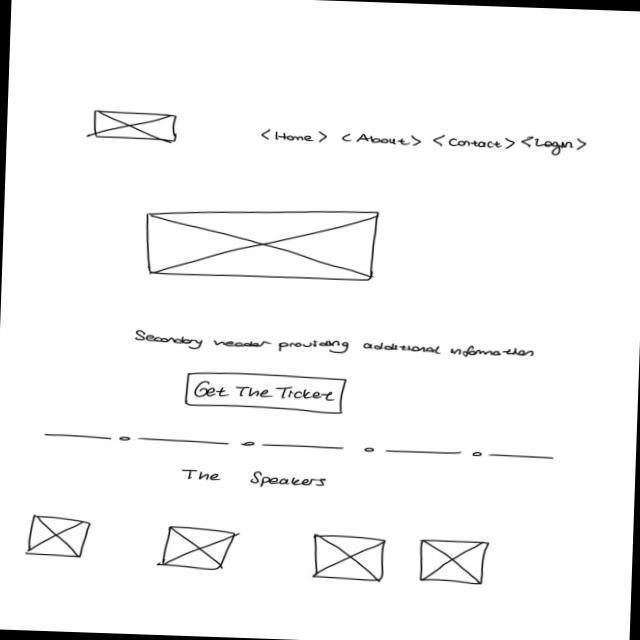button: (184, 370, 349, 417)
image: (145, 202, 382, 285), (308, 533, 389, 583), (158, 526, 237, 574), (417, 538, 491, 588), (26, 515, 93, 561), (92, 110, 180, 145)
label: (134, 330, 536, 362), (180, 467, 335, 492)
link: (431, 133, 517, 152), (342, 131, 423, 150), (521, 135, 588, 157), (259, 128, 329, 144)
